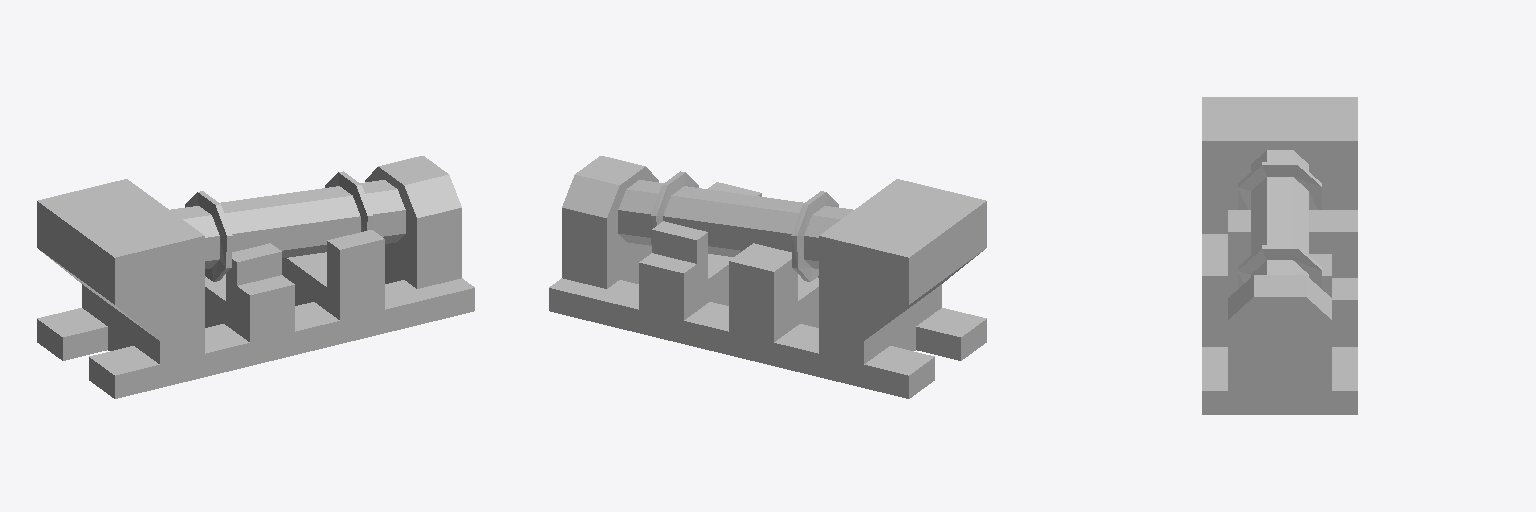
File: rotarykiln_old.obj
3 renders of one model, left to right at view 1: azimuth 30°, elevation 25°; view 2: azimuth 150°, elevation 25°; view 3: azimuth 270°, elevation 25°, orthographic.
Parts seen in each view (by area): view 1: Base_Cube.003, Tube_Cube.002; view 2: Base_Cube.003, Tube_Cube.002; view 3: Base_Cube.003, Tube_Cube.002.
Boxes of the visible parts, x1=… form: Base_Cube.003: x1=37, y1=156, x2=474, y2=398; Tube_Cube.002: x1=170, y1=171, x2=405, y2=281; Base_Cube.003: x1=549, y1=156, x2=986, y2=398; Tube_Cube.002: x1=618, y1=171, x2=853, y2=281; Base_Cube.003: x1=1202, y1=97, x2=1357, y2=414; Tube_Cube.002: x1=1238, y1=150, x2=1321, y2=288.
Size of the model in its own units: 8 by 3 by 3.